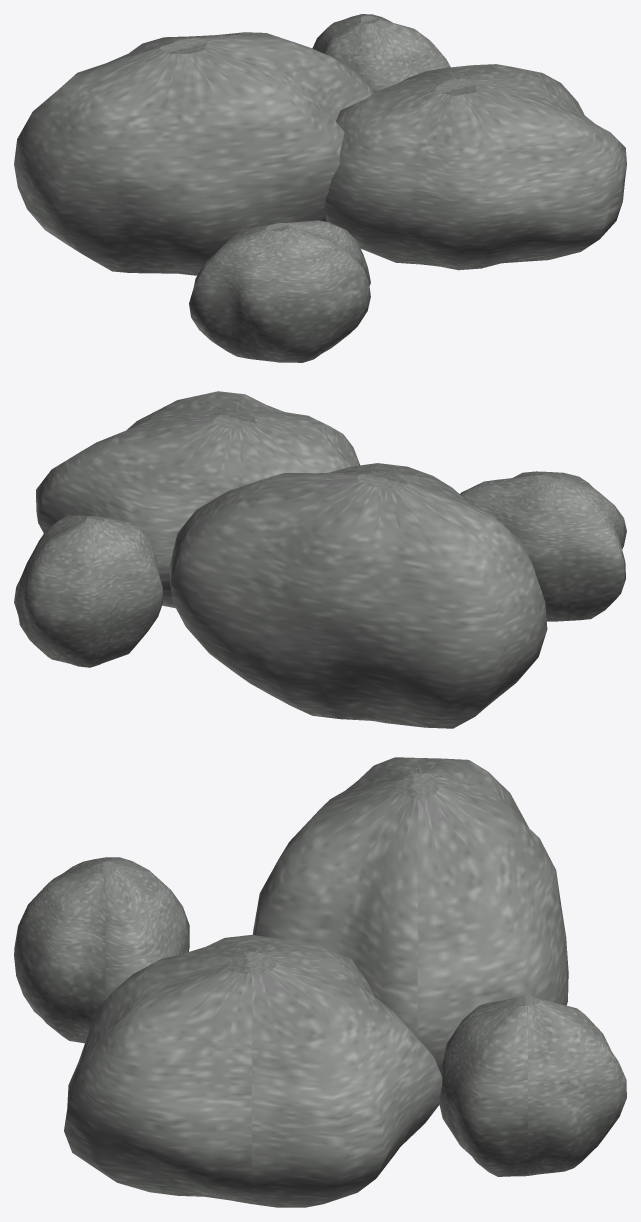
File: granite_boulder_cluster.glb
3 views of the same model, one above another, from view 1: azimuth 30°, elevation 25°; view 2: azimuth 150°, elevation 25°; view 3: azimuth 270°, elevation 25° (orthographic). The views are drawn at different scales.
Parts seen in each view (by area): view 1: granite_boulder_cluster; view 2: granite_boulder_cluster; view 3: granite_boulder_cluster.
Boxes of the visible parts, x1,y1,x2,y2 form: granite_boulder_cluster: (14,14,626,362); granite_boulder_cluster: (14,391,626,728); granite_boulder_cluster: (14,757,626,1207).
Size of the model in its own units: 2.6 by 1.1 by 2.2.
Materials: 1 (1 with a texture image).
